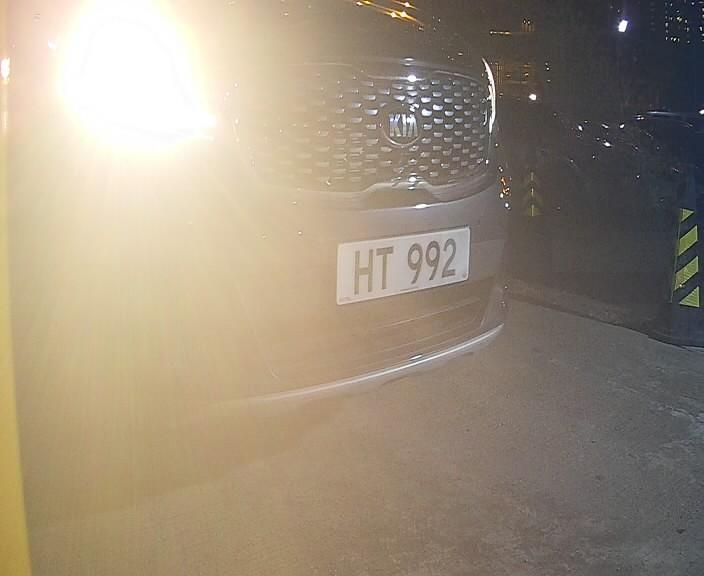privatecar: (3, 1, 531, 433)
